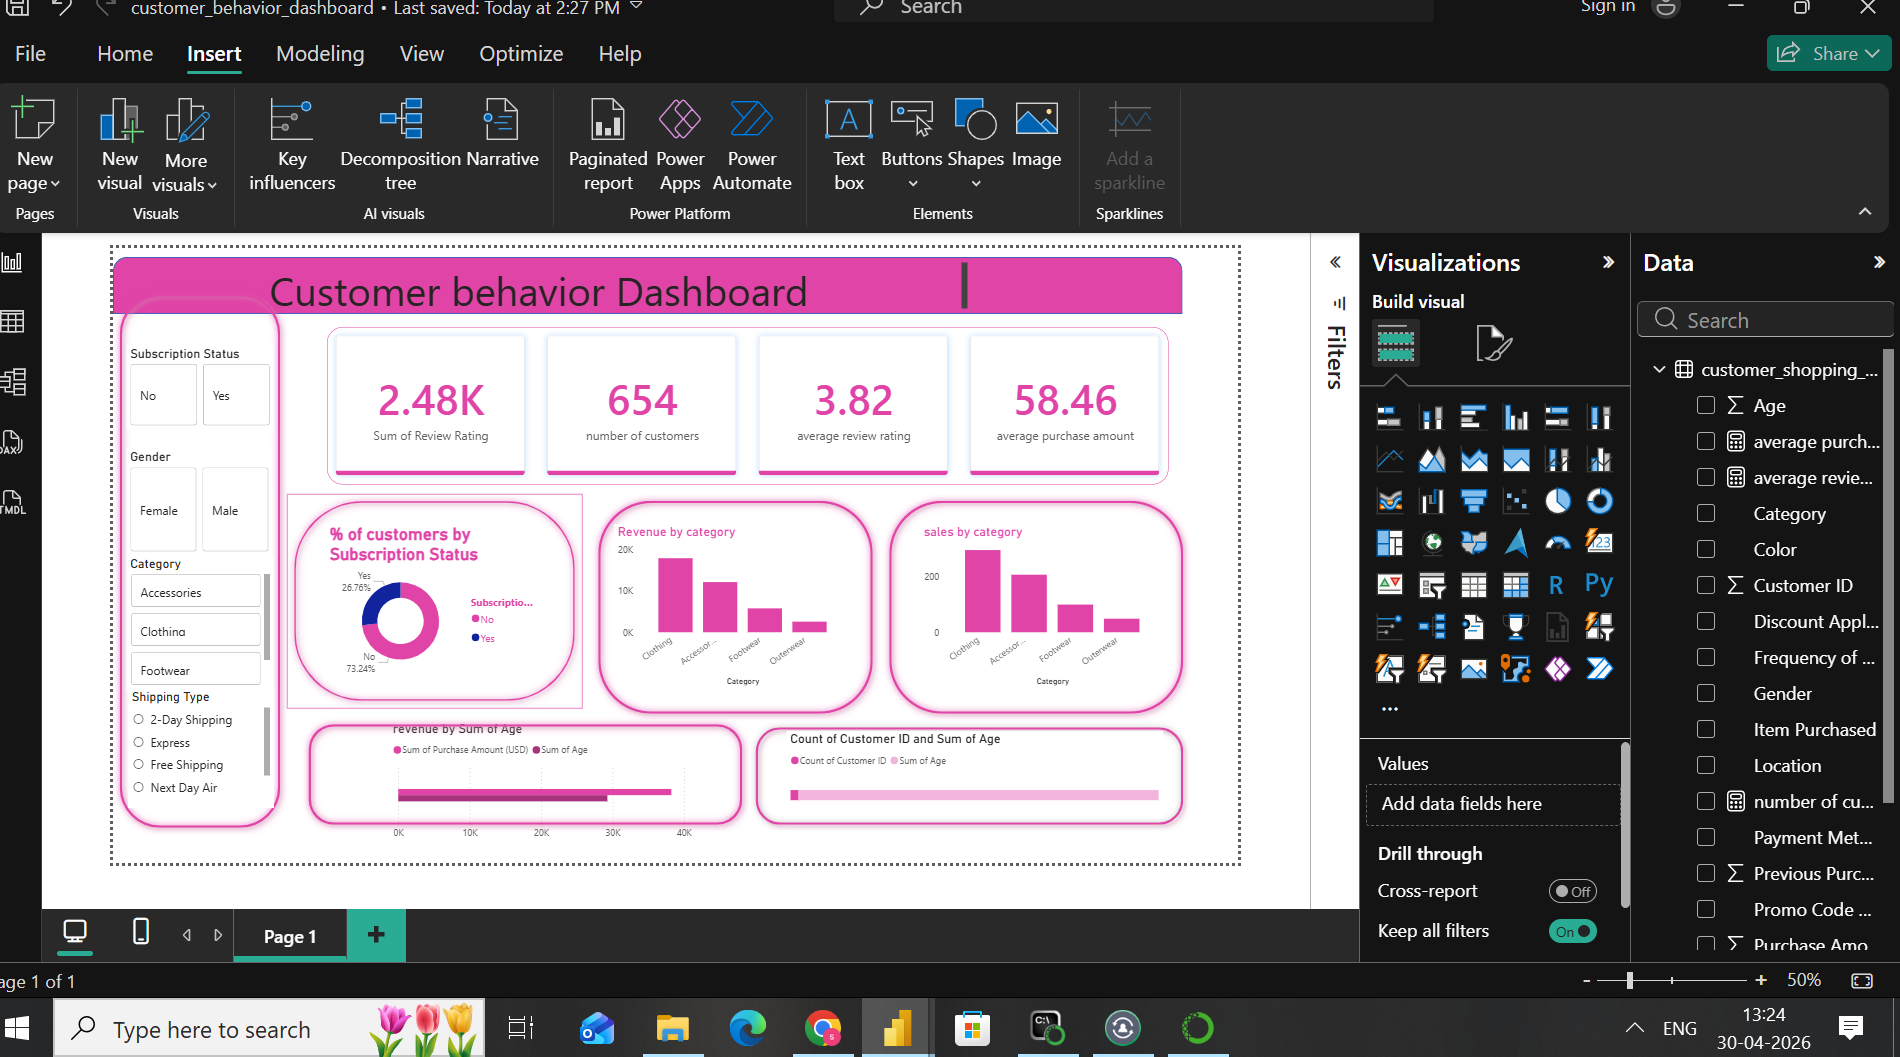

The dashboard page shown, as its layout file describes it:
{"tool":"powerbi","page":{"name":"Page 1","canvas":[1500,820],"ordinal":0},"visuals":[{"type":"cardVisual","fields":{"Data":["Sum(customer_shopping_behavior.Review Rating)","customer_shopping_behavior.number of customers","customer_shopping_behavior.average review rating","customer_shopping_behavior.average purchase amount"]},"box":[268,88,1158,244],"z":0},{"type":"shape","box":[232,14,1194,76],"z":1},{"type":"textbox","box":[191.9,14.6,951.5,74.8],"z":2},{"type":"shape","box":[232,328,394,286],"z":3},{"type":"donutChart","title":"% of customers by Subscription Status","fields":{"Y":["CountNonNull(customer_shopping_behavior.Customer ID)"],"Category":["customer_shopping_behavior.Subscription Status"]},"box":[268,354,322,250],"z":4},{"type":"shape","box":[638,328,384,302],"z":5},{"type":"shape","box":[1038,328,410,302],"z":6},{"type":"clusteredColumnChart","title":"Revenue by category","fields":{"Y":["Sum(customer_shopping_behavior.Purchase Amount (USD))"],"Category":["customer_shopping_behavior.Category"]},"box":[686,362,324,252],"z":7},{"type":"clusteredColumnChart","title":"sales  by category","fields":{"Y":["CountNonNull(customer_shopping_behavior.Customer ID)"],"Category":["customer_shopping_behavior.Category"]},"box":[1066,354,328,258],"z":8}]}

Visuals, with their boxes on the page's 1500x820 design canvas (x1, y1, x2, y2). These are canvas units, not pixel positions in the 1900x1057 screenshot, which may show the page scaled, cropped or inside an application window:
cardVisual - Sum(customer_shopping_behavior.Review Rating) x customer_shopping_behavior.number of customers: select_region(268, 88, 1426, 332)
shape: select_region(232, 14, 1426, 90)
textbox: select_region(192, 15, 1143, 89)
shape: select_region(232, 328, 626, 614)
"% of customers by Subscription Status" donutChart: select_region(268, 354, 590, 604)
shape: select_region(638, 328, 1022, 630)
shape: select_region(1038, 328, 1448, 630)
"Revenue by category" clusteredColumnChart: select_region(686, 362, 1010, 614)
"sales  by category" clusteredColumnChart: select_region(1066, 354, 1394, 612)
